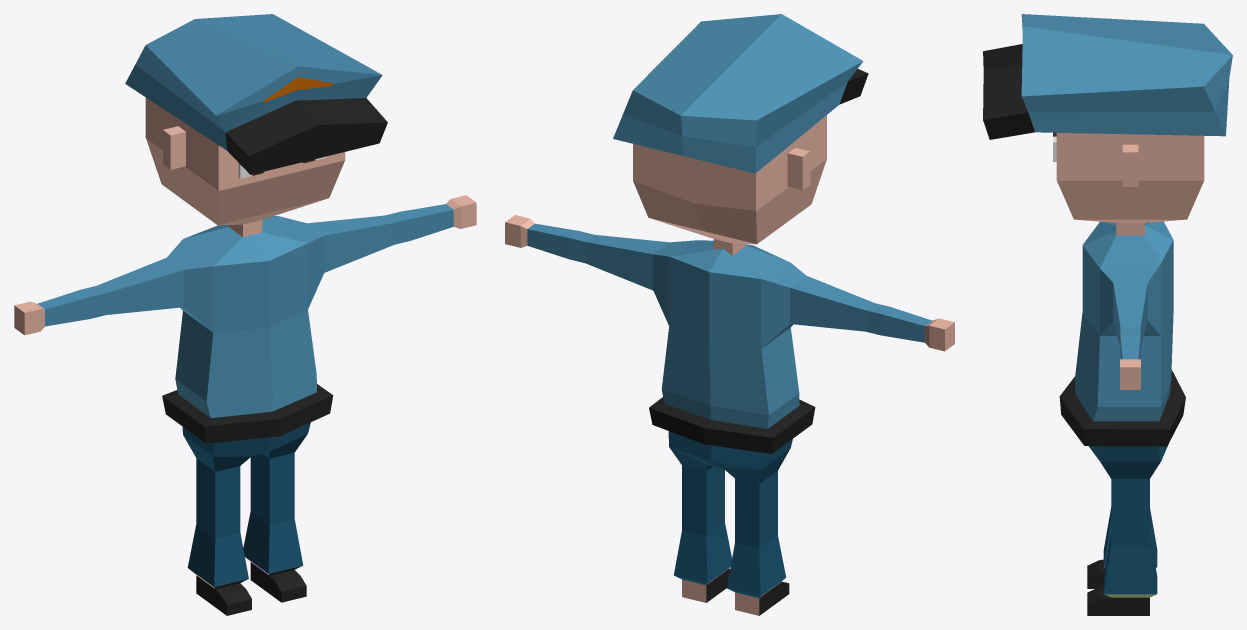
File: character2.fbx
3 renders of one model, left to right at view 1: azimuth 30°, elevation 25°; view 2: azimuth 150°, elevation 25°; view 3: azimuth 270°, elevation 25°, orthographic. The views are drawn at different scales.
Parts seen in each view (by area): view 1: Police, PoliceHat; view 2: Police, PoliceHat; view 3: Police, PoliceHat.
Part boxes in pixels (<box>): Police: <box>14,97,476,615</box>; PoliceHat: <box>125,14,387,174</box>; Police: <box>505,115,954,615</box>; PoliceHat: <box>613,14,868,173</box>; Police: <box>1053,132,1204,615</box>; PoliceHat: <box>983,14,1232,139</box>.
Size of the model in its own units: 0.1728 by 0.2057 by 0.0818.
Materials: 1 (1 with a texture image).
